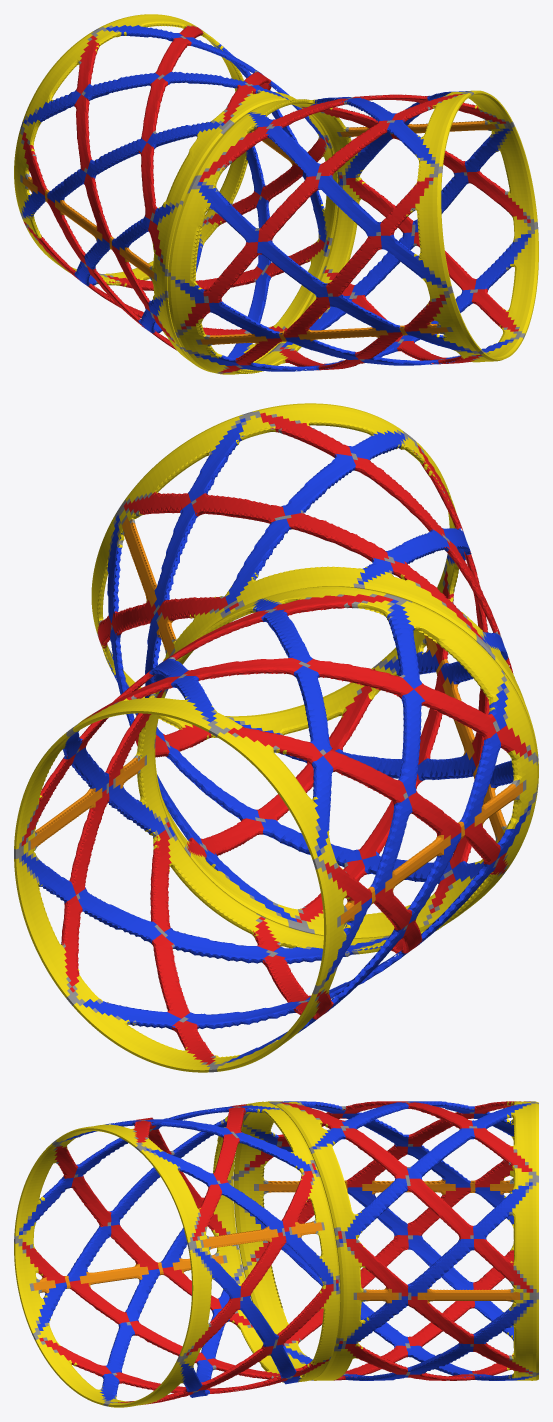
The model's file is initial_curves_module_colored.obj.
3 views of the same model, one above another, from view 1: azimuth 30°, elevation 25°; view 2: azimuth 150°, elevation 25°; view 3: azimuth 270°, elevation 25° (orthographic). The views are drawn at different scales.
Parts seen in each view (by area): view 1: mat_06_jointRing, mat_01_helixPlus, mat_02_helixMinus, mat_00_mixed, mat_04_bending; view 2: mat_06_jointRing, mat_02_helixMinus, mat_01_helixPlus, mat_04_bending, mat_00_mixed; view 3: mat_06_jointRing, mat_01_helixPlus, mat_02_helixMinus, mat_04_bending, mat_00_mixed.
Boxes of the visible parts, x1,y1,x2,y2 form: mat_06_jointRing: (14, 14, 538, 374); mat_01_helixPlus: (22, 25, 530, 373); mat_02_helixMinus: (22, 25, 531, 371); mat_00_mixed: (20, 25, 538, 373); mat_04_bending: (22, 120, 496, 344); mat_06_jointRing: (14, 403, 538, 1072); mat_02_helixMinus: (21, 418, 531, 1062); mat_01_helixPlus: (21, 412, 531, 1064); mat_04_bending: (30, 517, 522, 924); mat_00_mixed: (14, 411, 538, 1072); mat_06_jointRing: (14, 1101, 538, 1407); mat_01_helixPlus: (22, 1101, 533, 1404); mat_02_helixMinus: (19, 1101, 533, 1400); mat_04_bending: (33, 1179, 520, 1303); mat_00_mixed: (14, 1101, 538, 1406).
Size of the model in its own units: 0.3939 by 0.3228 by 0.5197.
